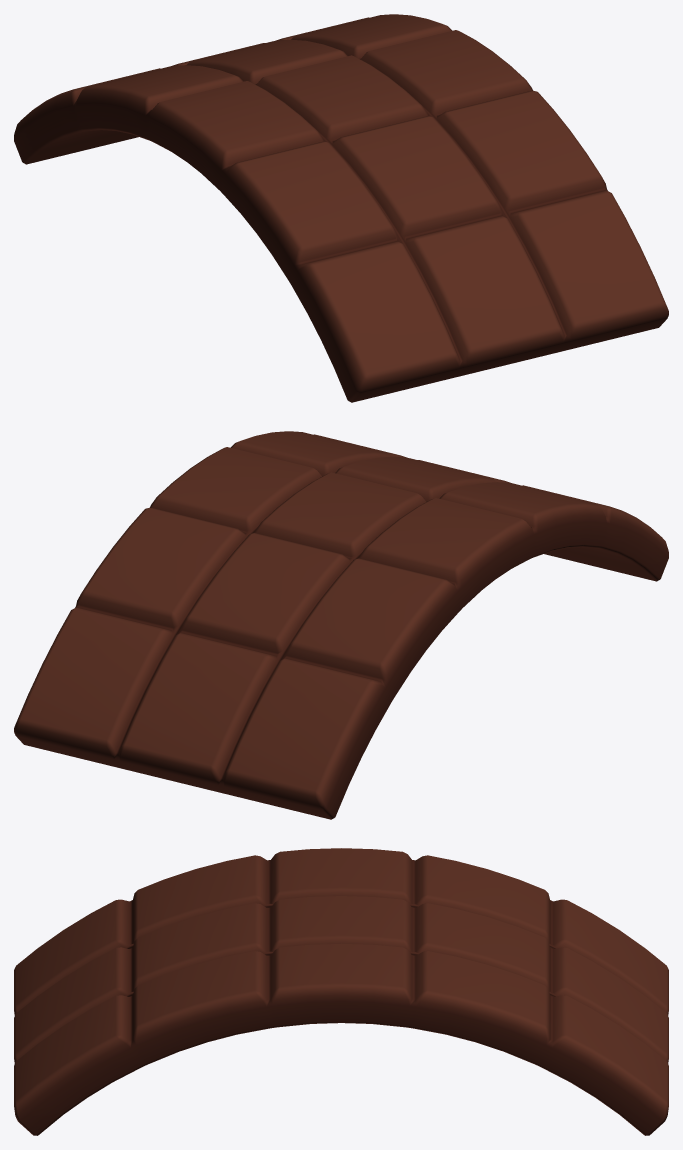
The model's file is ChocolateBridge_02.glb.
3 views of the same model, one above another, from view 1: azimuth 30°, elevation 25°; view 2: azimuth 150°, elevation 25°; view 3: azimuth 270°, elevation 25° (orthographic). The views are drawn at different scales.
Parts seen in each view (by area): view 1: ChocolateBridge_02; view 2: ChocolateBridge_02; view 3: ChocolateBridge_02.
Part boxes in pixels (x1,y1,x2,y2): ChocolateBridge_02: [14, 14, 668, 402]; ChocolateBridge_02: [14, 431, 668, 819]; ChocolateBridge_02: [14, 848, 668, 1135].
Bounding box in the file's own units: 4.5 × 2.19 × 8.68.
1 material, 1 textured.
